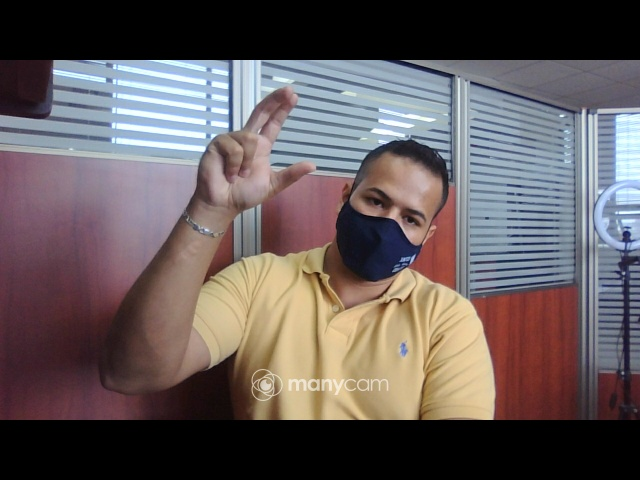No: (178, 86, 320, 209)
